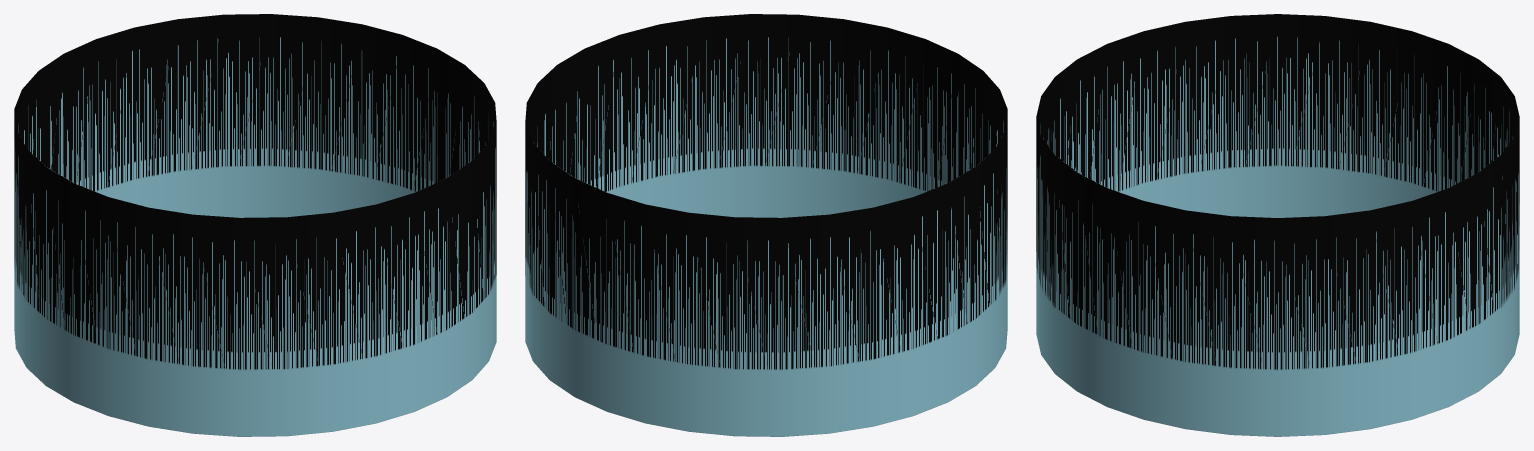
The picture shows the model from 3 angles, left to right: view 1: azimuth 30°, elevation 25°; view 2: azimuth 150°, elevation 25°; view 3: azimuth 270°, elevation 25°; orthographic projection.
Parts seen in each view (by area): view 1: 円柱; view 2: 円柱; view 3: 円柱.
Part boxes in pixels (left/top/right/bottom): 円柱: left=14, top=14, right=496, bottom=436; 円柱: left=525, top=14, right=1007, bottom=436; 円柱: left=1036, top=14, right=1519, bottom=436.
Size of the model in its own units: 4 by 2 by 4.
1 material, 1 textured.
